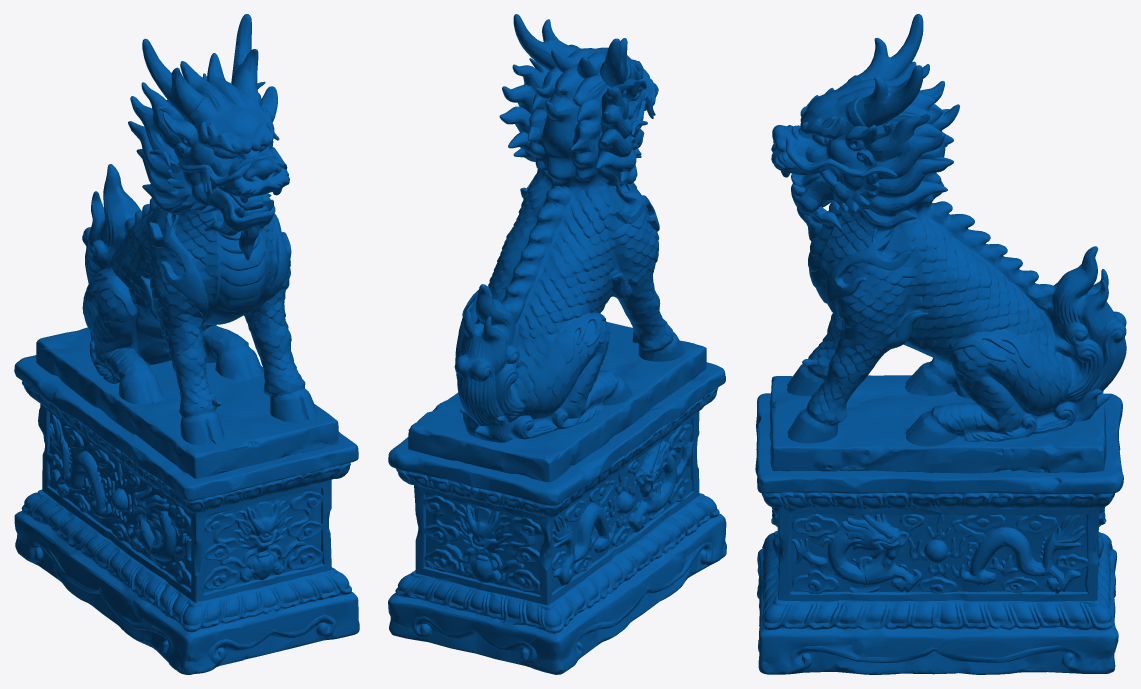
Rendered from qilin_statue.glb.
3 renders of one model, left to right at view 1: azimuth 30°, elevation 25°; view 2: azimuth 150°, elevation 25°; view 3: azimuth 270°, elevation 25°, orthographic. The views are drawn at different scales.
Parts seen in each view (by area): view 1: Mesh_0; view 2: Mesh_0; view 3: Mesh_0.
Part boxes in pixels (bbox=[...]): Mesh_0: bbox=[14, 14, 359, 674]; Mesh_0: bbox=[388, 14, 726, 674]; Mesh_0: bbox=[755, 14, 1126, 674].
Size of the model in its own units: 1 by 3 by 1.7.
Materials: 1 (1 with a texture image).
